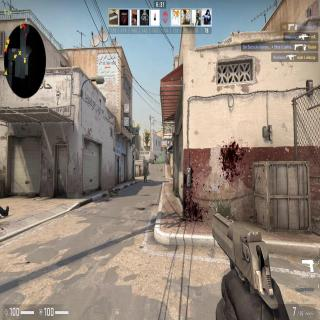CT-Body: (144, 172, 147, 181), (154, 154, 157, 161)
CT-Head: (144, 172, 146, 174), (154, 154, 156, 156)
